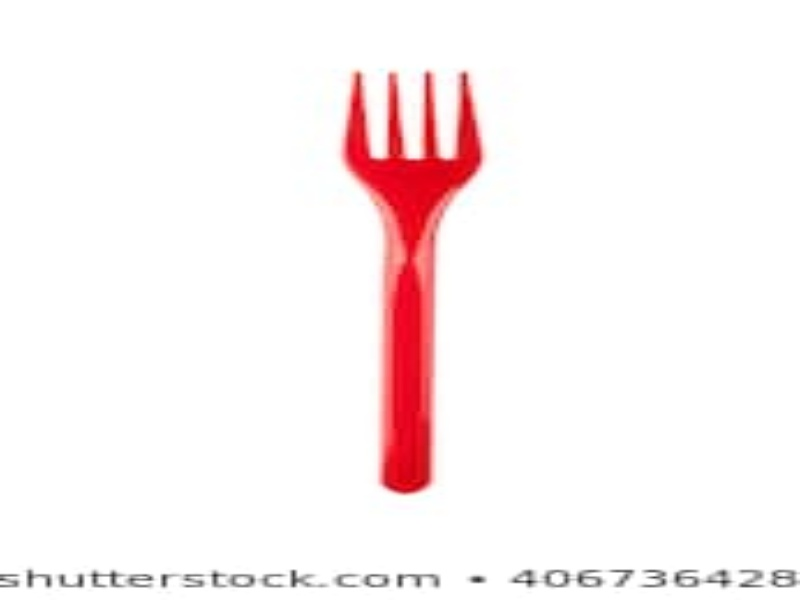plastic-silverware: (340, 65, 486, 497)
